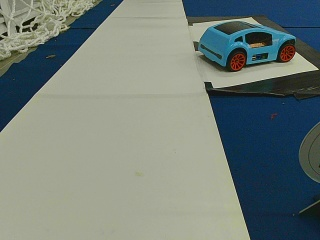car: (198, 20, 294, 71)
